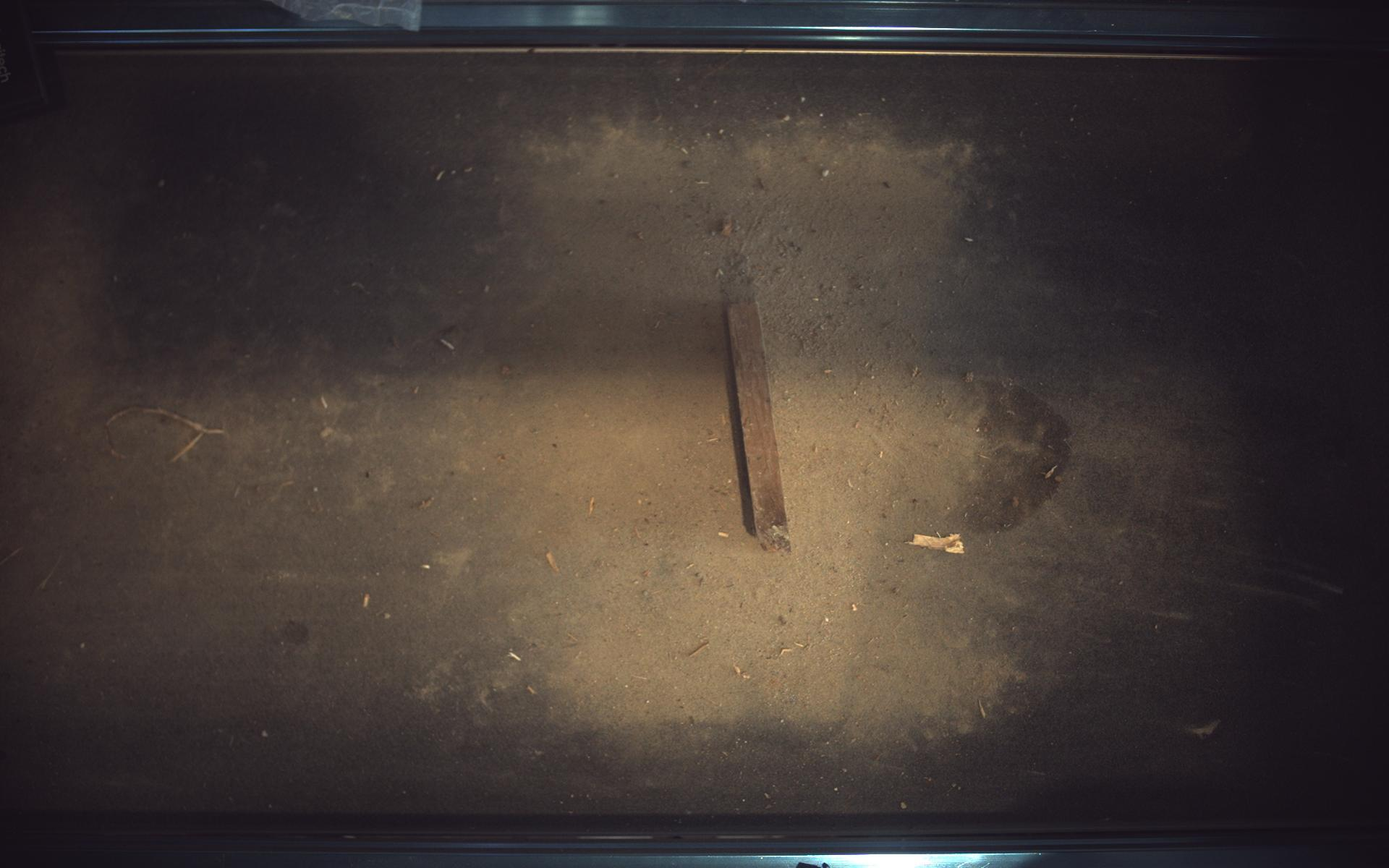wood: (729, 301, 792, 552)
